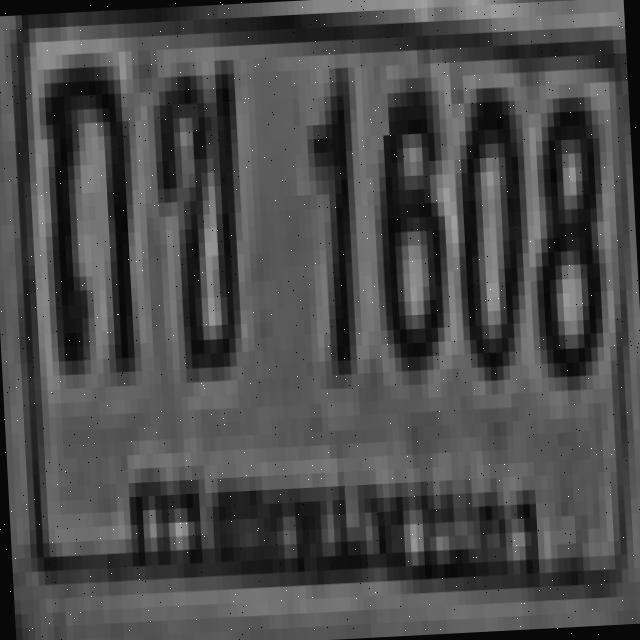0: (450, 73, 529, 368)
1: (300, 61, 360, 369)
11KhorKhai: (148, 60, 246, 370)
31ThorThung: (36, 45, 136, 369)
6: (368, 78, 446, 358)
8: (520, 83, 605, 378)
